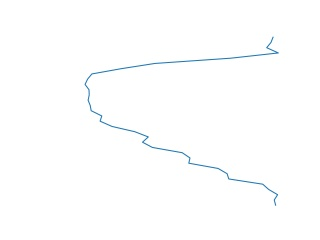mouthBar: (77, 37, 283, 208)
